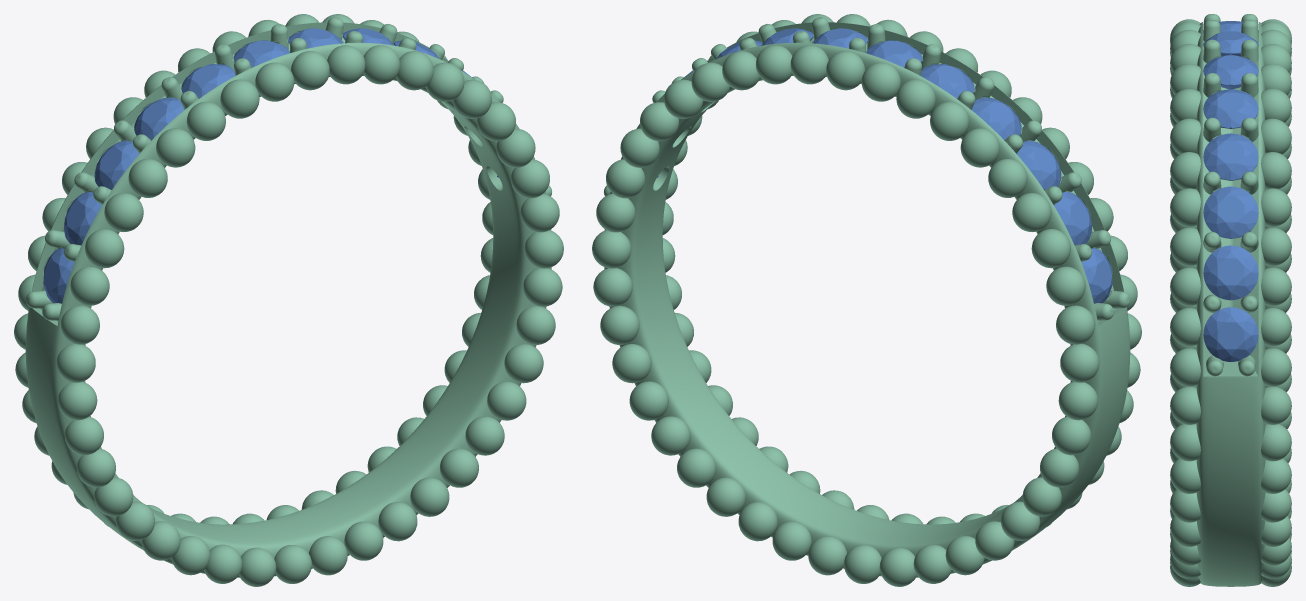
3 views of the same model, side by side, from view 1: azimuth 30°, elevation 25°; view 2: azimuth 150°, elevation 25°; view 3: azimuth 270°, elevation 25° (orthographic). The views are drawn at different scales.
Visible parts, largest first — view 1: Meia alianca com bolinhas.3dm, Gem (×6); view 2: Meia alianca com bolinhas.3dm, Gem (×6); view 3: Meia alianca com bolinhas.3dm, Gem (×8).
Boxes of the visible parts, x1,y1,x2,y2 form: Meia alianca com bolinhas.3dm: (14,14,563,586); Gem (×6): (43,40,289,303); Meia alianca com bolinhas.3dm: (592,14,1141,586); Gem (×6): (866,40,1112,303); Meia alianca com bolinhas.3dm: (1170,14,1291,586); Gem (×8): (1203,21,1258,361).
Size of the model in its own units: 2.8 by 2.8 by 0.5947.
